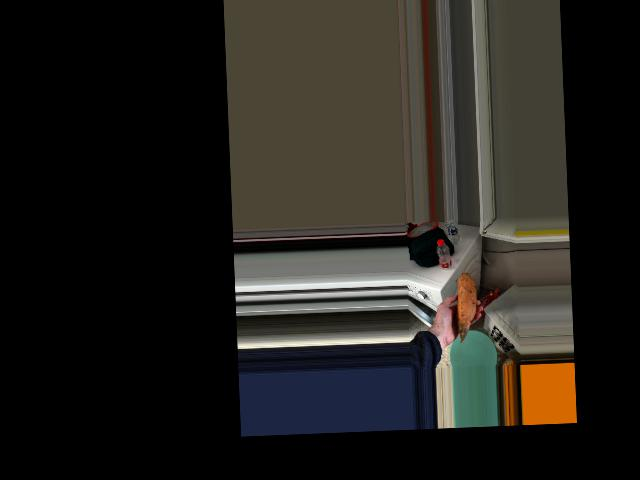sweet_potato: (453, 278, 474, 339)
